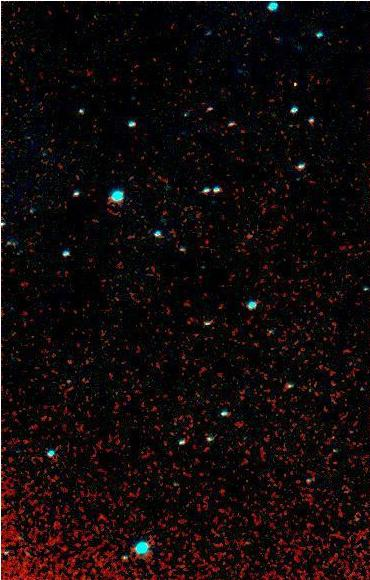star: (280, 69, 310, 99)
